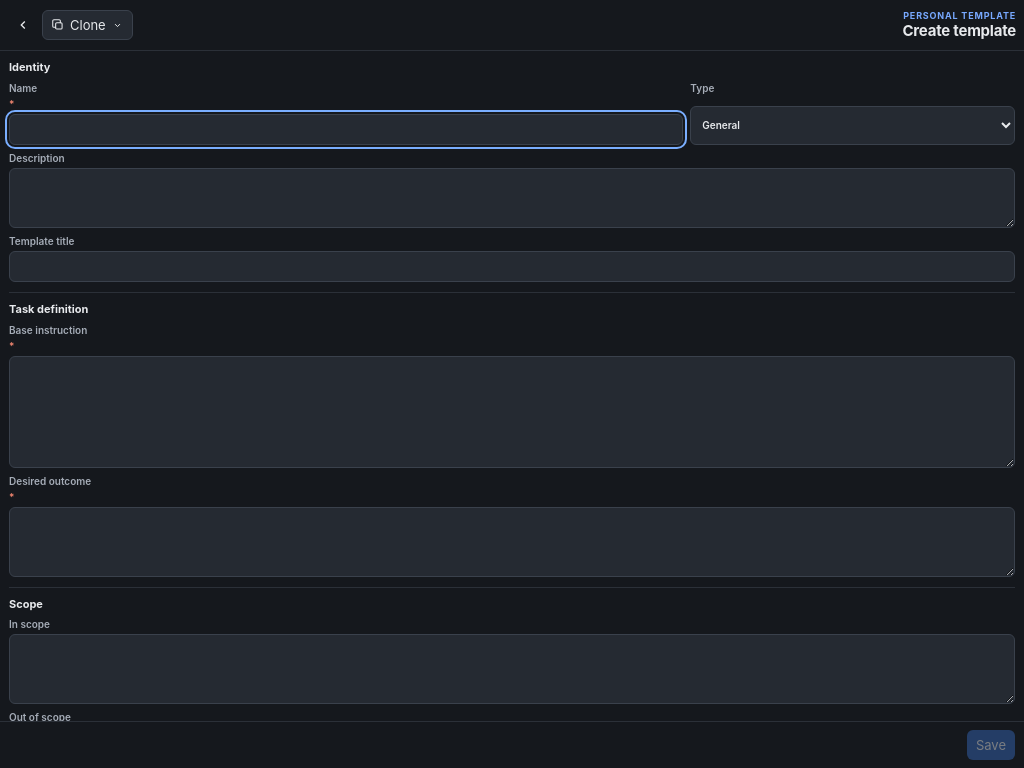
Test case: Library workspace › confirms before leaving a dirty editor and preserves the draft when cancelled
In the field labelled "Name *": [346, 129] box [9, 114, 683, 145], type "Unsaved template"
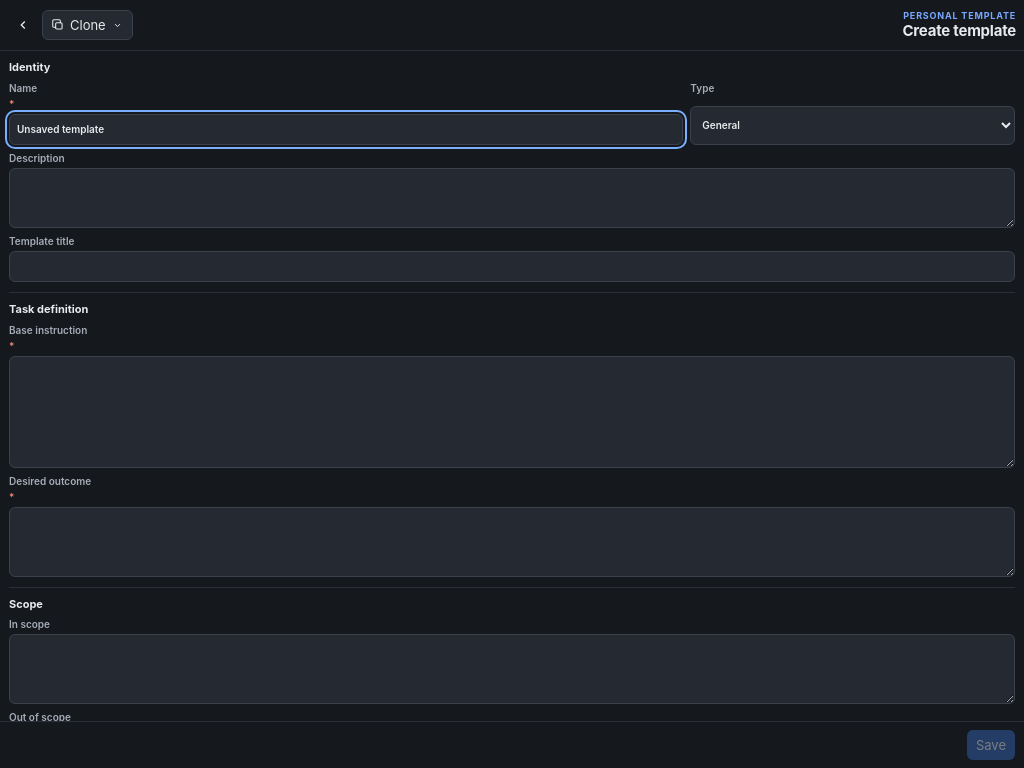
Click the button named "Back to Library": [23, 25] box [8, 10, 38, 40]
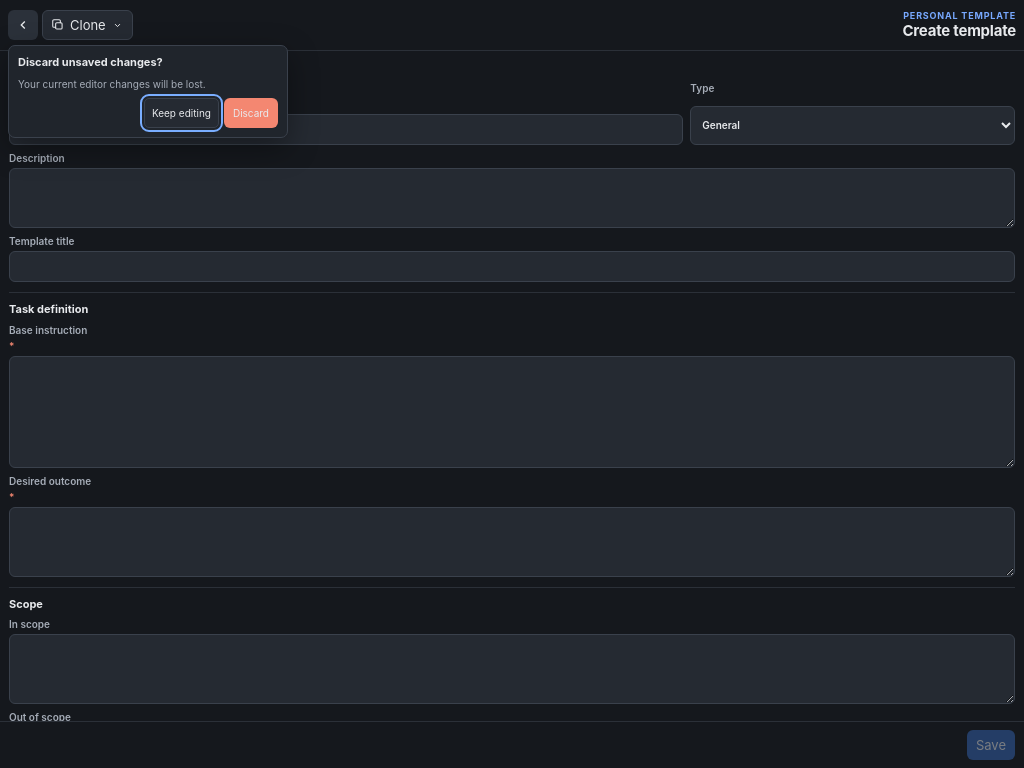
Click the button "Keep editing": [181, 113] box [144, 98, 219, 128]
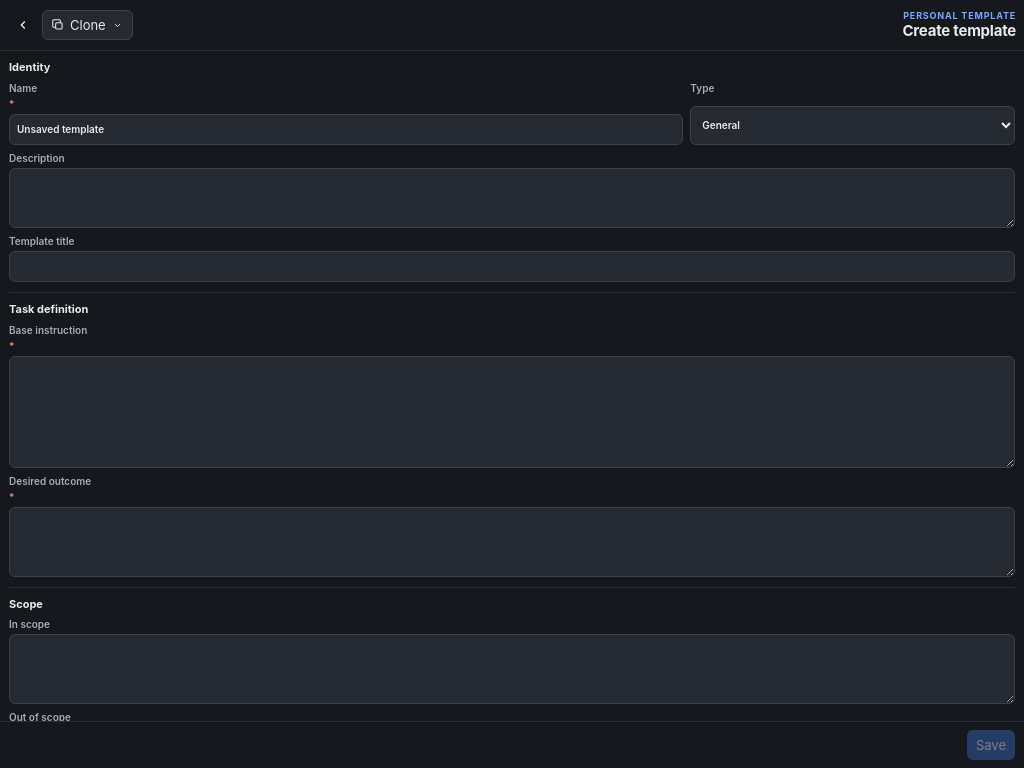
Click the button named "Back to Library": [23, 25] box [8, 10, 38, 40]
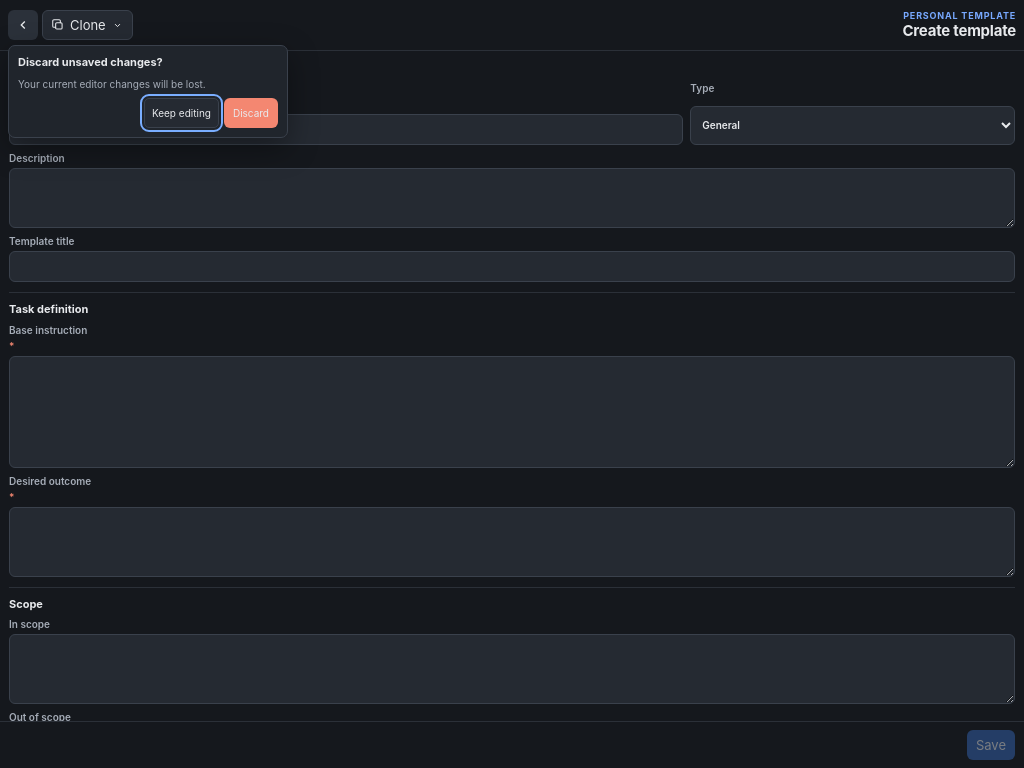
Click the button "Discard": [251, 113] box [224, 98, 278, 128]
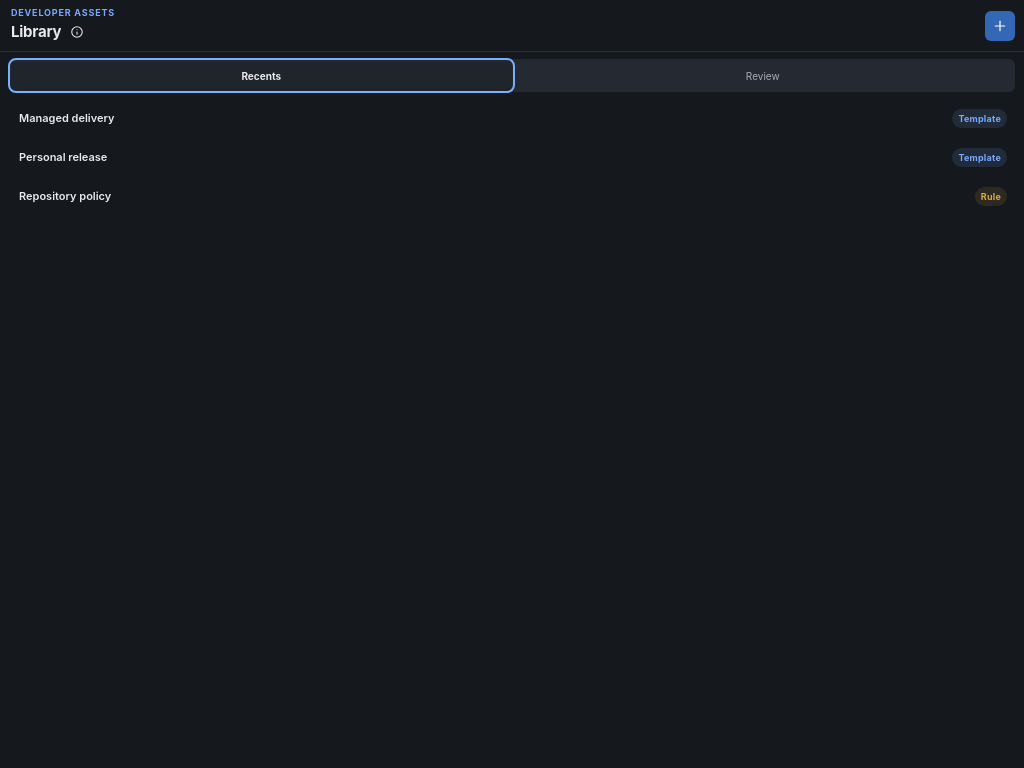
Expected: the heading "Library" is shown, [11, 22, 61, 40]
